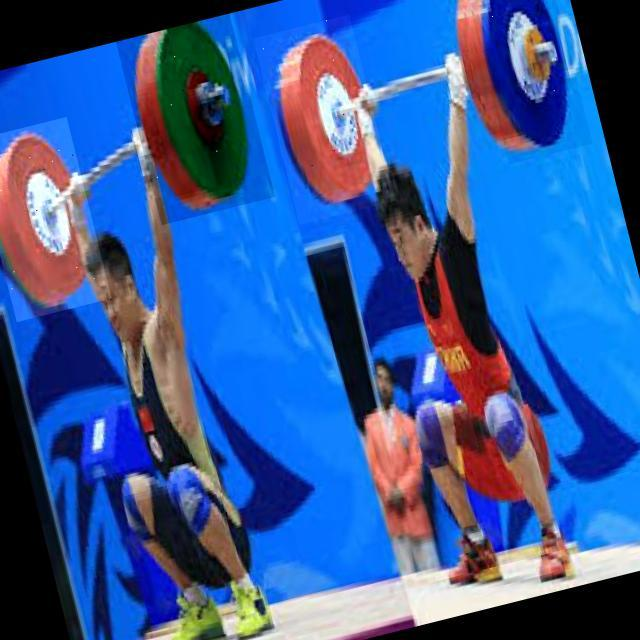barbell: (117, 14, 276, 226), (254, 15, 396, 225), (1, 116, 114, 322), (460, 1, 593, 165)
